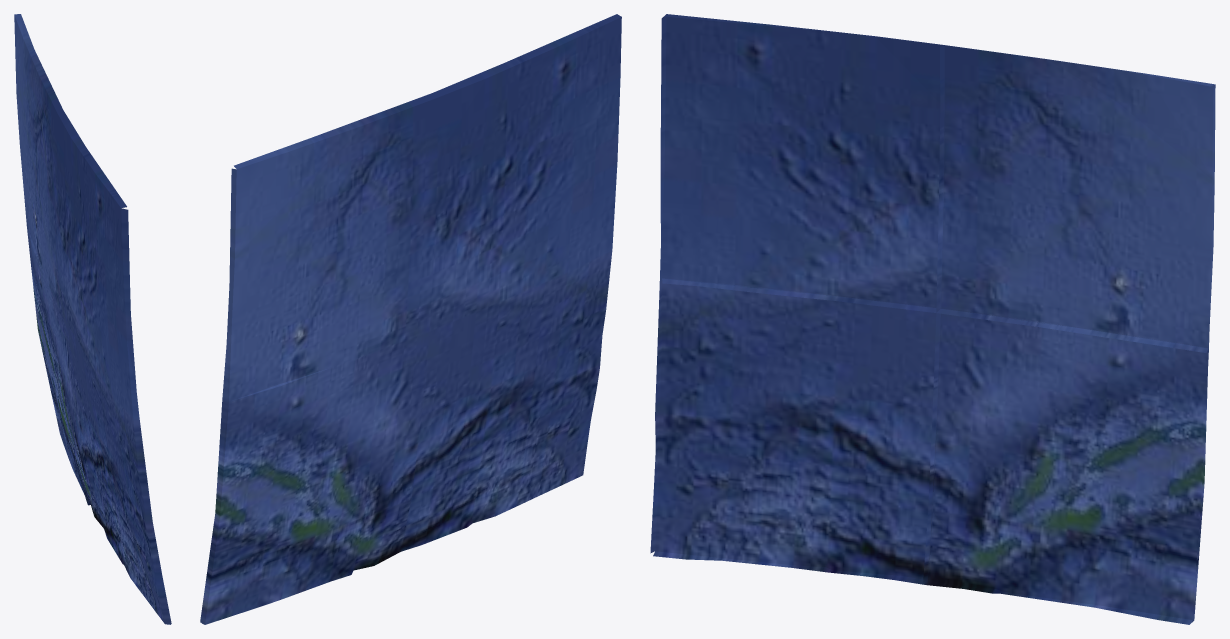
3 renders of one model, left to right at view 1: azimuth 30°, elevation 25°; view 2: azimuth 150°, elevation 25°; view 3: azimuth 270°, elevation 25°, orthographic. The views are drawn at different scales.
Size of the model in its own units: 494538 by 1251715 by 1236796.
Materials: 1 (1 with a texture image).
